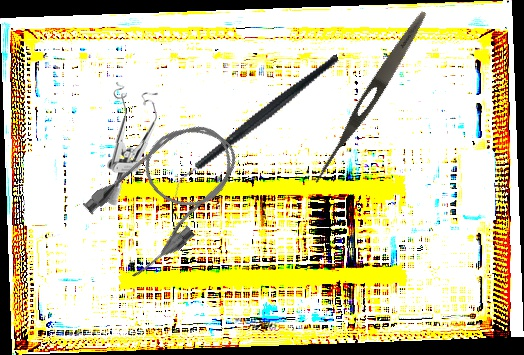Cannula: (74, 104, 260, 285)
Chopper: (147, 54, 364, 199)
Dressing Forceps: (308, 7, 432, 190)
Speculum: (104, 80, 161, 206)
